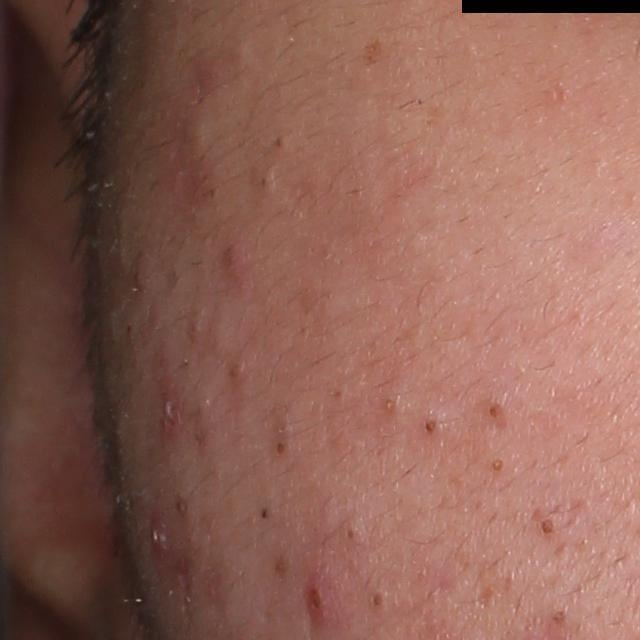comedo: (177, 118, 211, 150), (249, 169, 275, 196), (364, 588, 386, 614), (417, 416, 442, 438), (337, 523, 362, 545), (264, 440, 291, 459), (483, 400, 503, 425), (225, 357, 245, 382), (377, 395, 397, 416), (537, 516, 556, 537), (256, 507, 275, 526), (487, 457, 506, 475), (268, 132, 286, 151), (173, 497, 188, 515)
melasma: (355, 34, 388, 71)
papule: (300, 576, 334, 622), (219, 239, 250, 282), (159, 394, 185, 437), (130, 249, 152, 288)
